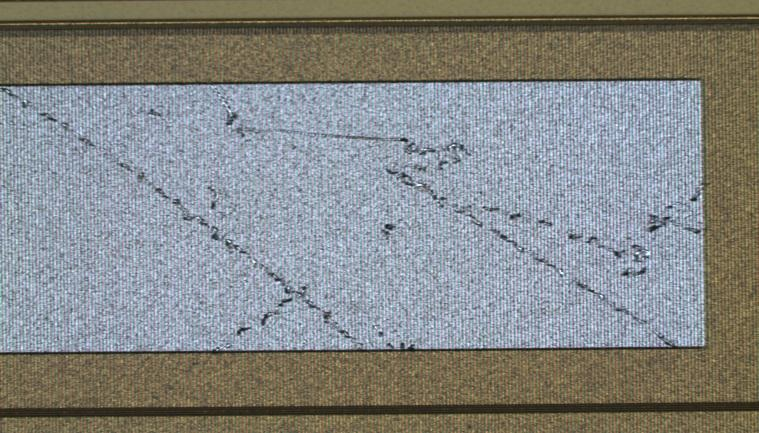SCRATCH: (1, 73, 717, 374)
